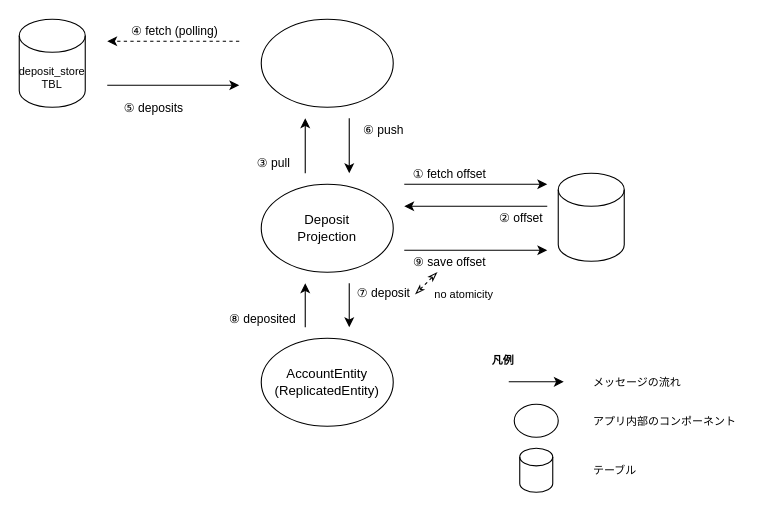
Some shapes in this 765 by 512 pixel diagram are drawn without their labels. The centre of each missing label's shape, as x and y in pixels:
akka_ projection_ offset_store TBL: (590,216)
Deposit Source: (326,62)
